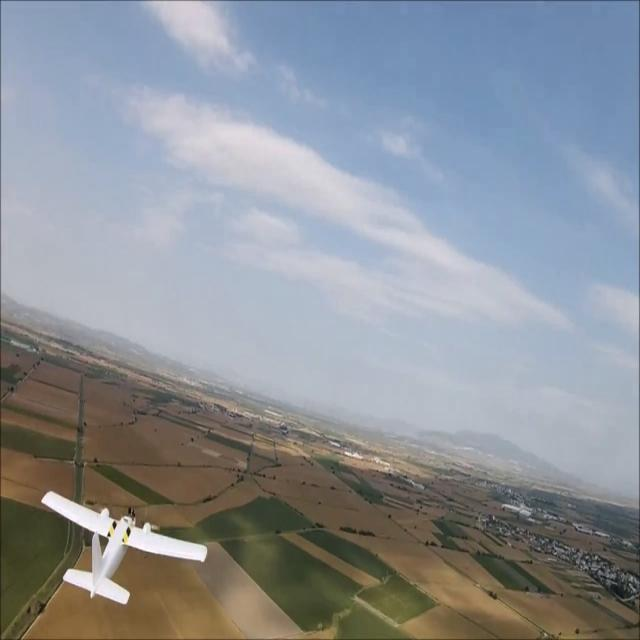iha: (0, 472, 147, 625)
